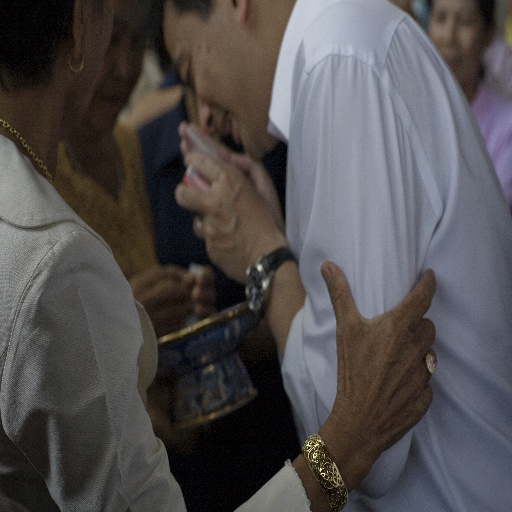hand: (289, 240, 441, 504), (173, 151, 278, 287), (176, 120, 284, 227), (127, 263, 193, 336), (190, 268, 216, 320)
